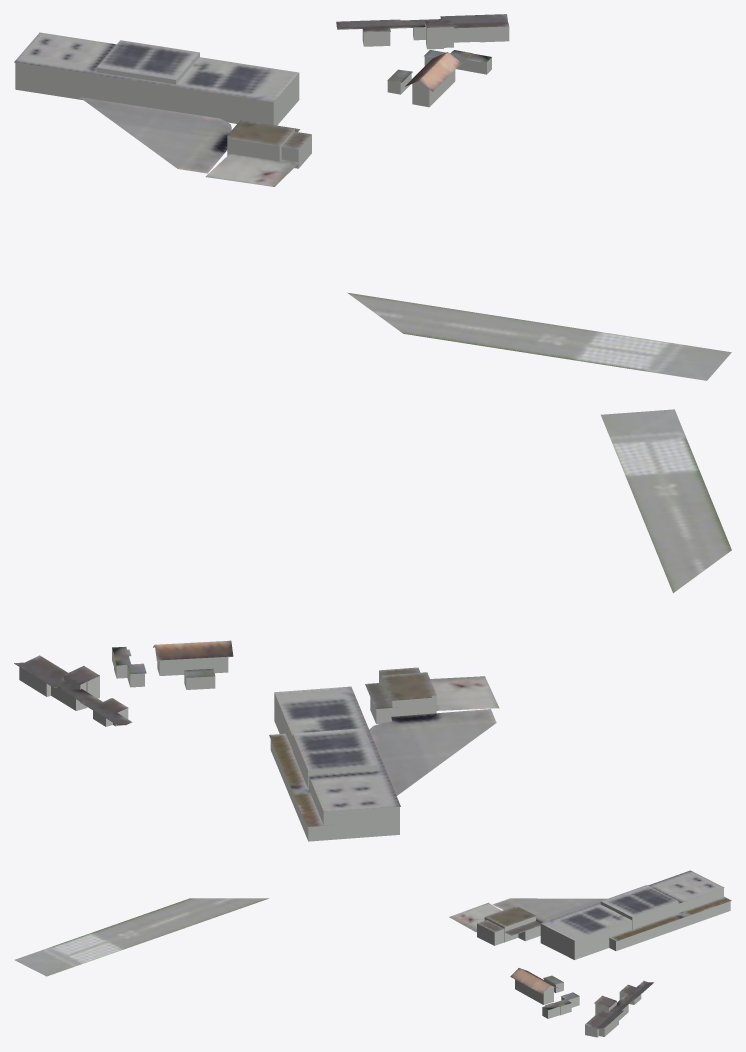
Rendered from LSZB_1_-1.glb.
3 views of the same model, one above another, from view 1: azimuth 30°, elevation 25°; view 2: azimuth 150°, elevation 25°; view 3: azimuth 270°, elevation 25° (orthographic). The views are drawn at different scales.
Visible parts, largest first — view 1: pavement_LSZB_pavement_5210_2390, building_af59d3c08058c913, building_3bf7acf128b64e06, building_efc1350eec53102b, building_4fab3d340a71ced0; view 2: pavement_LSZB_pavement_5210_2390, building_af59d3c08058c913, building_efc1350eec53102b, building_3bf7acf128b64e06, building_4fab3d340a71ced0; view 3: pavement_LSZB_pavement_5210_2390, building_af59d3c08058c913, building_3bf7acf128b64e06, building_efc1350eec53102b, building_4fab3d340a71ced0.
Part boxes in pixels (bbox=[...]): pavement_LSZB_pavement_5210_2390: bbox=[79, 97, 731, 380]; building_af59d3c08058c913: bbox=[14, 19, 394, 102]; building_3bf7acf128b64e06: bbox=[15, 29, 390, 125]; building_efc1350eec53102b: bbox=[227, 14, 509, 149]; building_4fab3d340a71ced0: bbox=[227, 23, 509, 168]; pavement_LSZB_pavement_5210_2390: bbox=[369, 409, 731, 795]; building_af59d3c08058c913: bbox=[85, 686, 400, 827]; building_efc1350eec53102b: bbox=[14, 640, 436, 709]; building_3bf7acf128b64e06: bbox=[93, 693, 399, 841]; building_4fab3d340a71ced0: bbox=[19, 648, 436, 724]; pavement_LSZB_pavement_5210_2390: bbox=[14, 898, 607, 976]; building_af59d3c08058c913: bbox=[540, 870, 731, 997]; building_3bf7acf128b64e06: bbox=[540, 888, 730, 1004]; building_efc1350eec53102b: bbox=[477, 906, 637, 1028]; building_4fab3d340a71ced0: bbox=[477, 916, 628, 1037].
Bounding box in the file's own units: 207 × 15.36 × 422.
3 materials, 2 textured.
